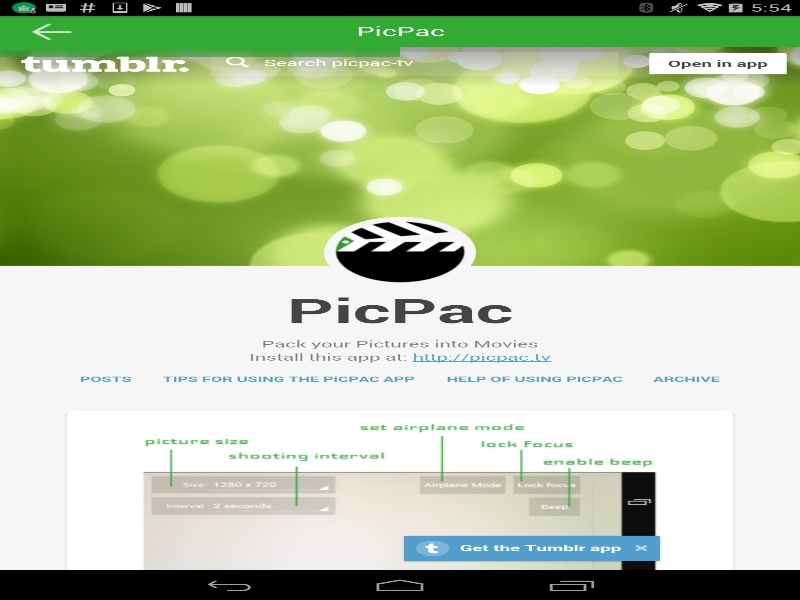Button: (649, 52, 788, 73)
Input: (76, 46, 733, 80), (210, 51, 618, 76)
